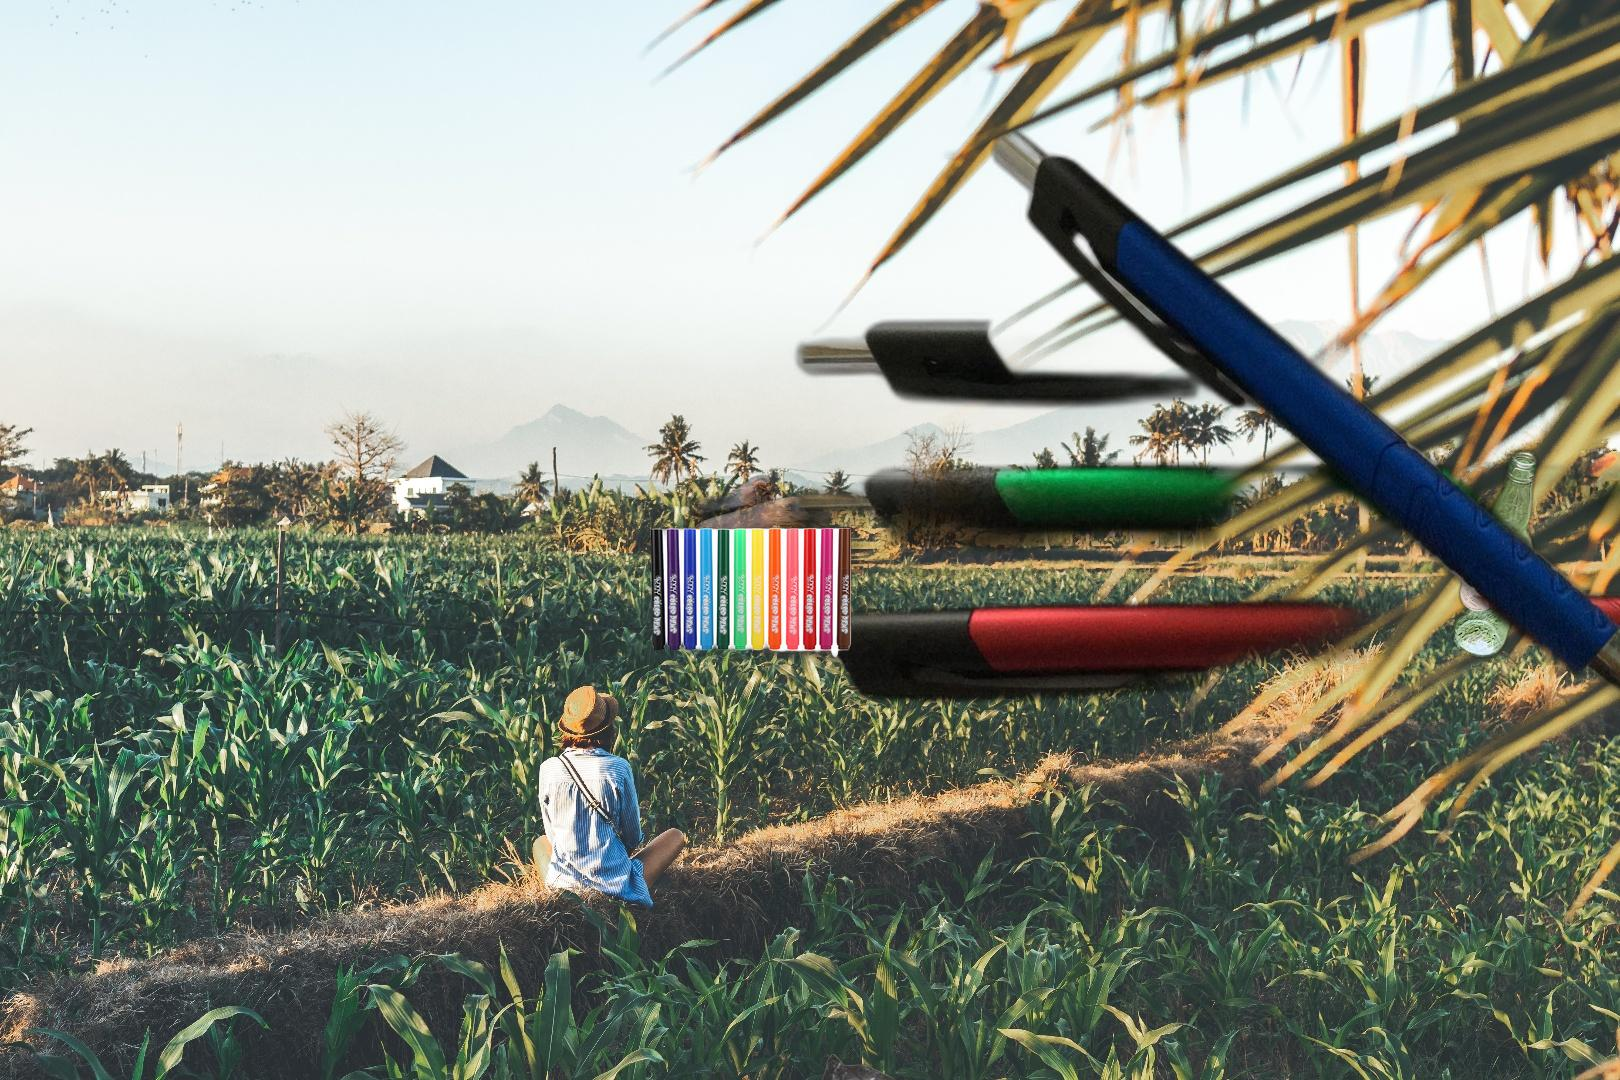biological: (635, 424, 911, 568)
glass: (1167, 427, 1542, 967)
penholder: (695, 121, 1620, 1019), (647, 526, 855, 661), (1595, 783, 1620, 1080)
plastic-bag: (808, 1052, 984, 1080)
